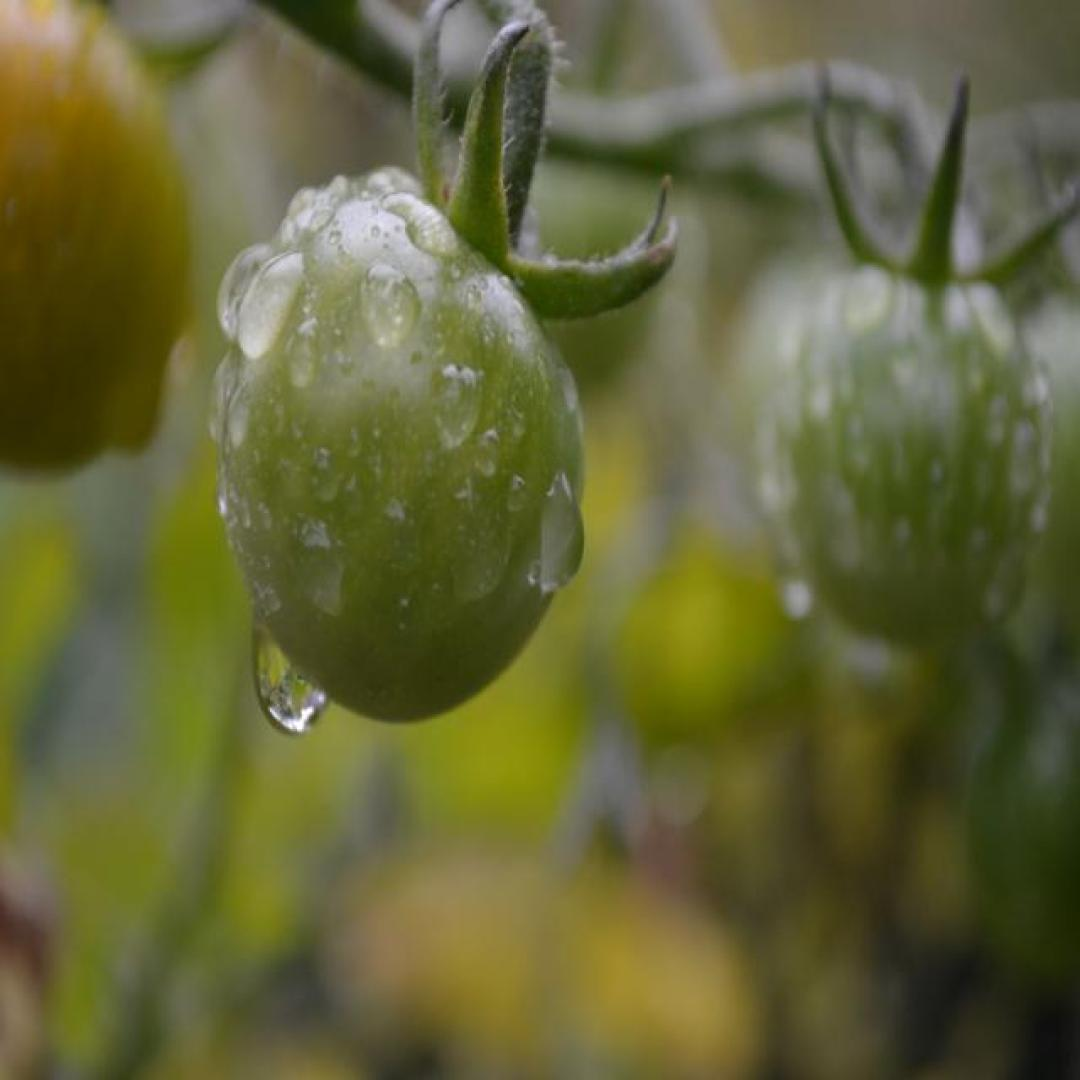mentah: (213, 164, 587, 726)
